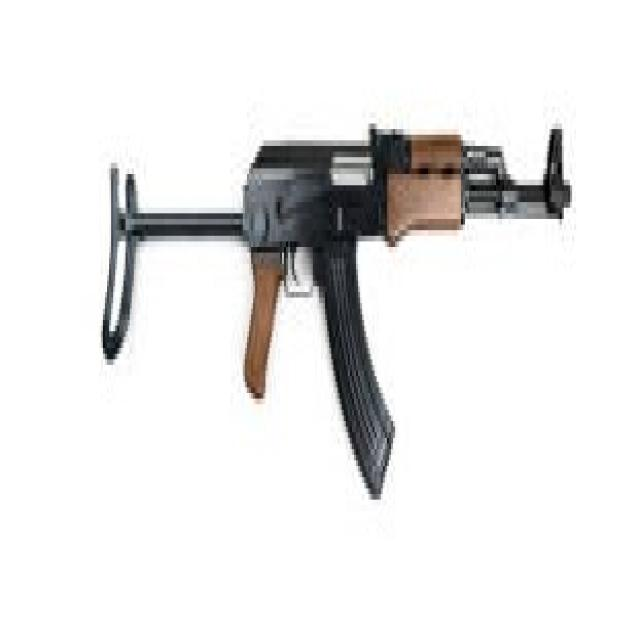rifle: (95, 117, 577, 512)
